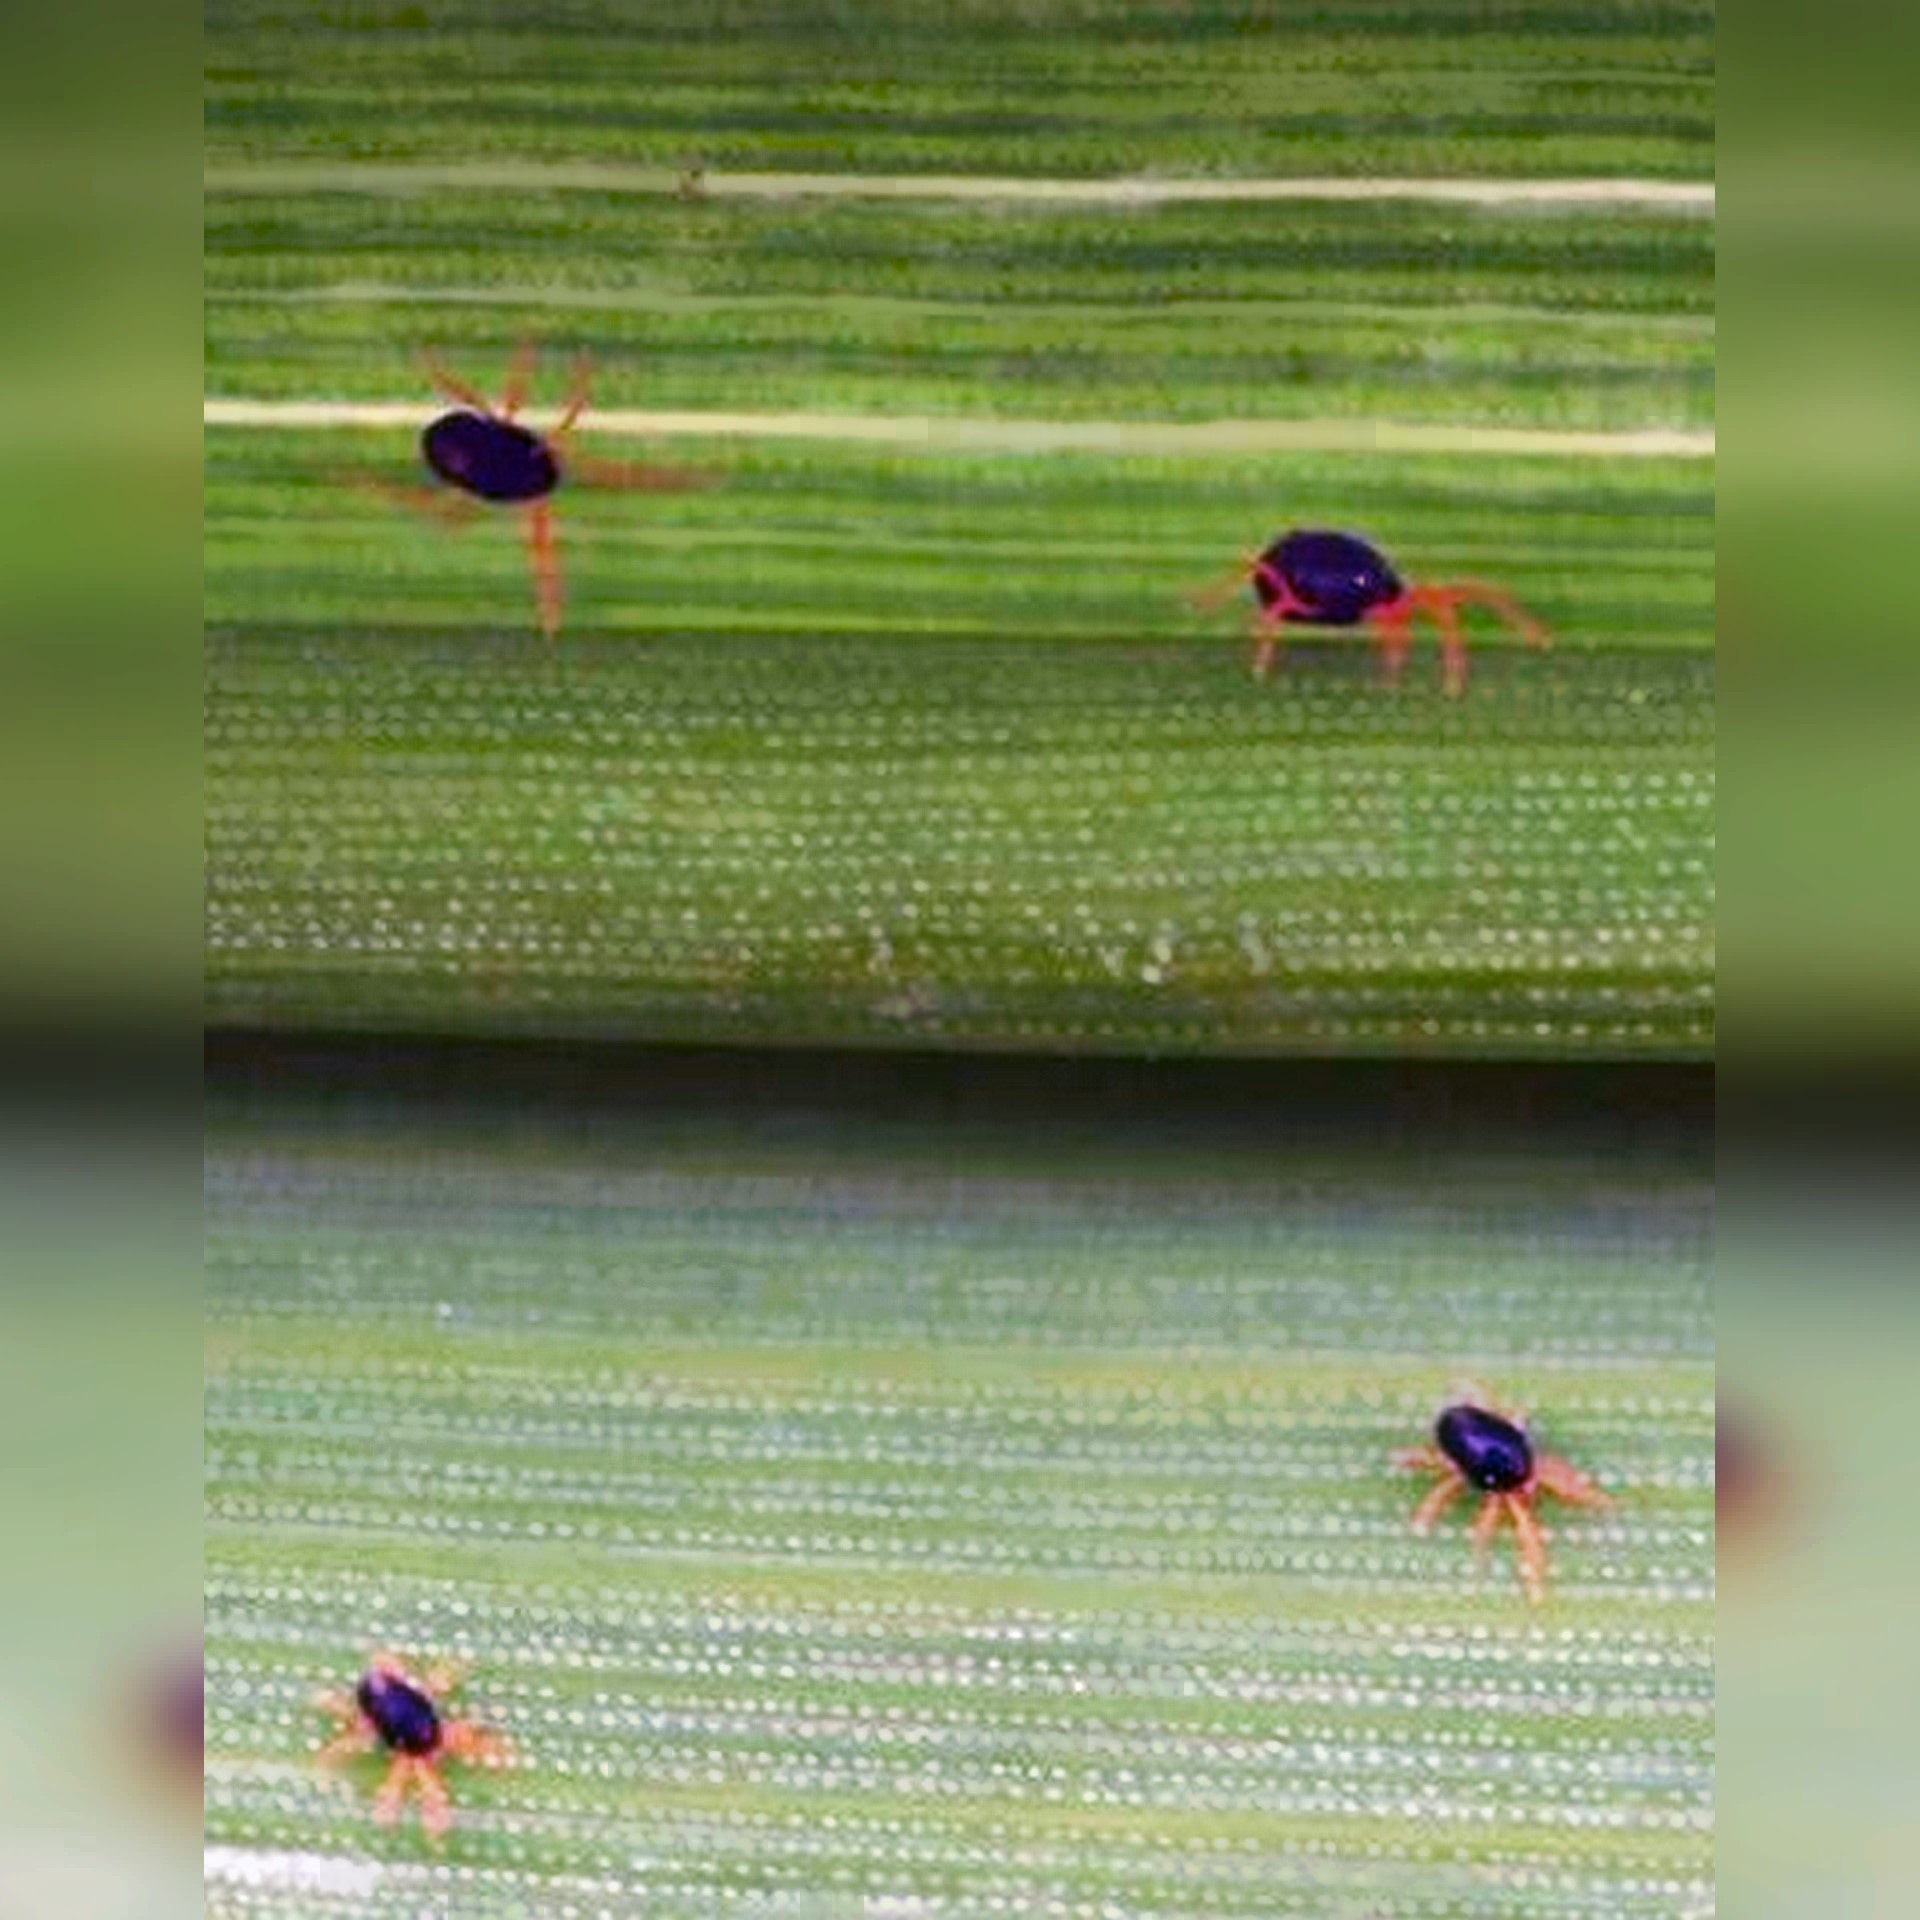Wheat Red Spider: (1363, 1340, 1632, 1618)
